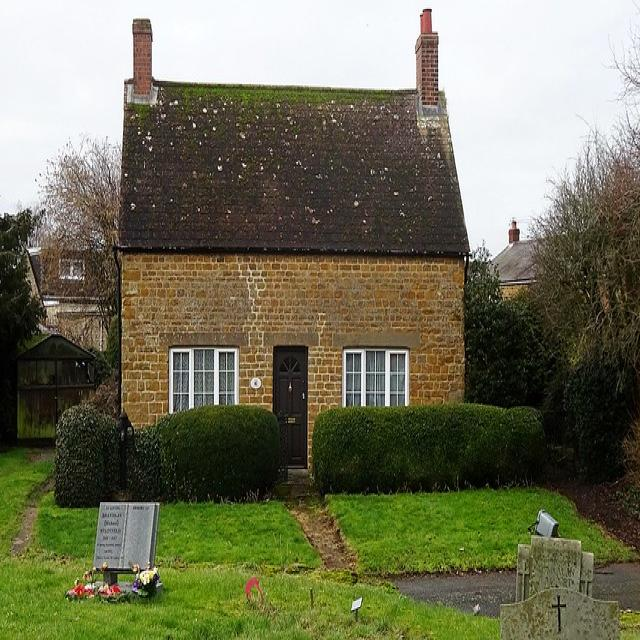building: (114, 70, 472, 468)
